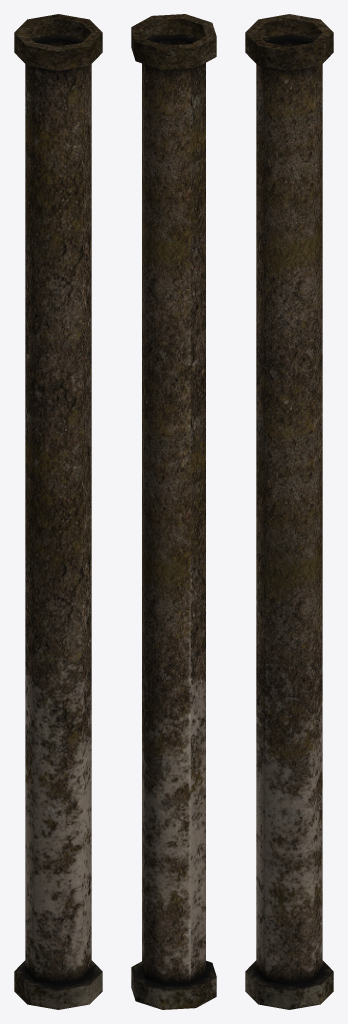
File: ExtPipe_03.FBX
The picture shows the model from 3 angles, left to right: view 1: azimuth 90°, elevation 25°; view 2: azimuth 210°, elevation 25°; view 3: azimuth 270°, elevation 25°; orthographic projection.
Parts seen in each view (by area): view 1: ExtPipe_03; view 2: ExtPipe_03; view 3: ExtPipe_03.
Part boxes in pixels (x1=…): ExtPipe_03: x1=14, y1=14, x2=102, y2=1009; ExtPipe_03: x1=131, y1=14, x2=216, y2=1009; ExtPipe_03: x1=245, y1=14, x2=333, y2=1009.
Size of the model in its own units: 16 by 191 by 16.
